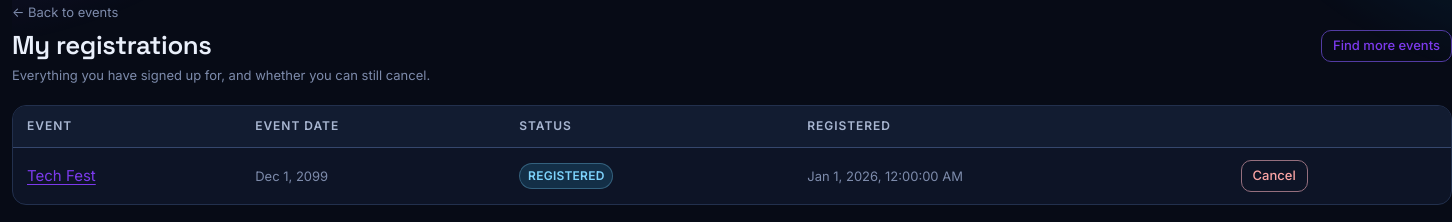
Test: MyRegistrationsComponent › lists registrations and allows cancelling a future one
This screenshot has width=1452, height=222.
Step 1. Click the button "Cancel" → point(1274, 176), box left=1240, top=160, right=1308, bottom=192
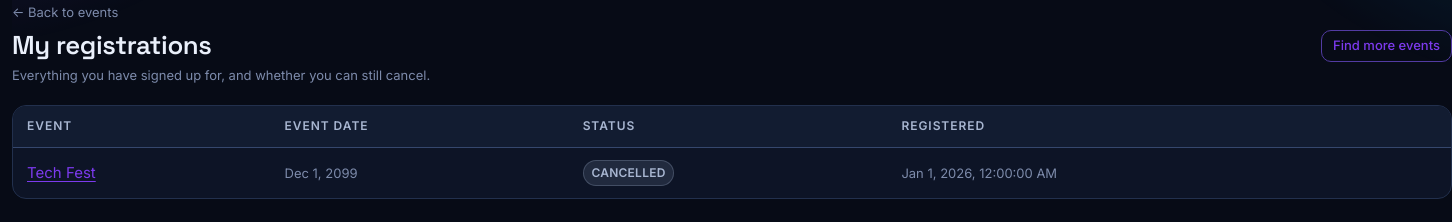
Check: the text "CANCELLED" is shown, box left=583, top=160, right=674, bottom=186
